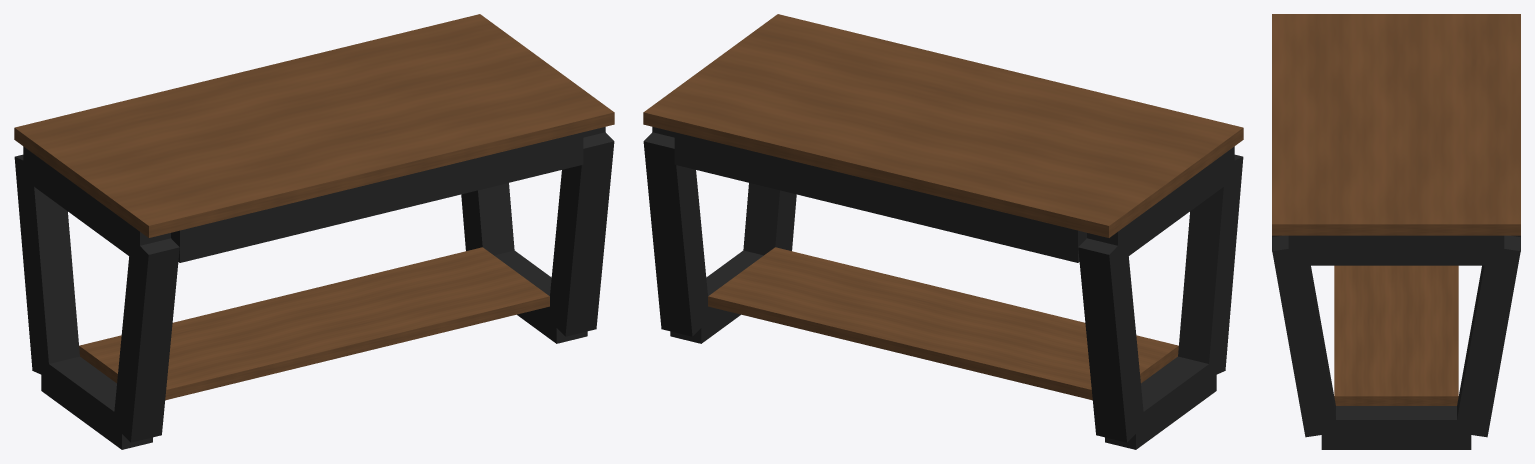
Rendered from mesa-living-nord-estante-nogal-negro.glb.
3 renders of one model, left to right at view 1: azimuth 30°, elevation 25°; view 2: azimuth 150°, elevation 25°; view 3: azimuth 270°, elevation 25°, orthographic. The views are drawn at different scales.
Visible parts, largest first — view 1: Tapa de madera maciza 120 x 60 x 3 cm, Pata inclinada hacia adentro, perfil 80 x 80 mm (×4), Estante inferior de madera (proporción aproximada), Larguero longitudinal superior de hierro 80 x 80 mm, Travesaño inferior del trapecio, ancho exterior 44 cm (×2), Travesaño superior del trapecio, ancho exterior 60 cm; view 2: Tapa de madera maciza 120 x 60 x 3 cm, Pata inclinada hacia adentro, perfil 80 x 80 mm (×4), Estante inferior de madera (proporción aproximada), Larguero longitudinal superior de hierro 80 x 80 mm, Travesaño inferior del trapecio, ancho exterior 44 cm (×2), Travesaño superior del trapecio, ancho exterior 60 cm; view 3: Tapa de madera maciza 120 x 60 x 3 cm, Estante inferior de madera (proporción aproximada), Pata inclinada hacia adentro, perfil 80 x 80 mm (×2), Travesaño superior del trapecio, ancho exterior 60 cm, Travesaño inferior del trapecio, ancho exterior 44 cm.
Boxes of the visible parts, x1,y1,x2,y2 form: Tapa de madera maciza 120 x 60 x 3 cm: [14, 14, 614, 237]; Pata inclinada hacia adentro, perfil 80 x 80 mm (×4): [14, 132, 614, 442]; Estante inferior de madera (proporción aproximada): [79, 247, 549, 400]; Larguero longitudinal superior de hierro 80 x 80 mm: [171, 132, 583, 262]; Travesaño inferior del trapecio, ancho exterior 44 cm (×2): [41, 250, 587, 449]; Travesaño superior del trapecio, ancho exterior 60 cm: [23, 146, 170, 263]; Tapa de madera maciza 120 x 60 x 3 cm: [643, 14, 1243, 237]; Pata inclinada hacia adentro, perfil 80 x 80 mm (×4): [643, 132, 1243, 442]; Estante inferior de madera (proporción aproximada): [708, 247, 1178, 400]; Larguero longitudinal superior de hierro 80 x 80 mm: [674, 132, 1086, 262]; Travesaño inferior del trapecio, ancho exterior 44 cm (×2): [670, 250, 1216, 449]; Travesaño superior del trapecio, ancho exterior 60 cm: [1087, 146, 1234, 263]; Tapa de madera maciza 120 x 60 x 3 cm: [1272, 14, 1520, 235]; Estante inferior de madera (proporción aproximada): [1334, 265, 1458, 405]; Pata inclinada hacia adentro, perfil 80 x 80 mm (×2): [1272, 235, 1520, 437]; Travesaño superior del trapecio, ancho exterior 60 cm: [1288, 235, 1504, 265]; Travesaño inferior del trapecio, ancho exterior 44 cm: [1321, 406, 1471, 449].
Bounding box in the file's own units: 1.2 × 0.6 × 0.6.
2 materials, 1 textured.
